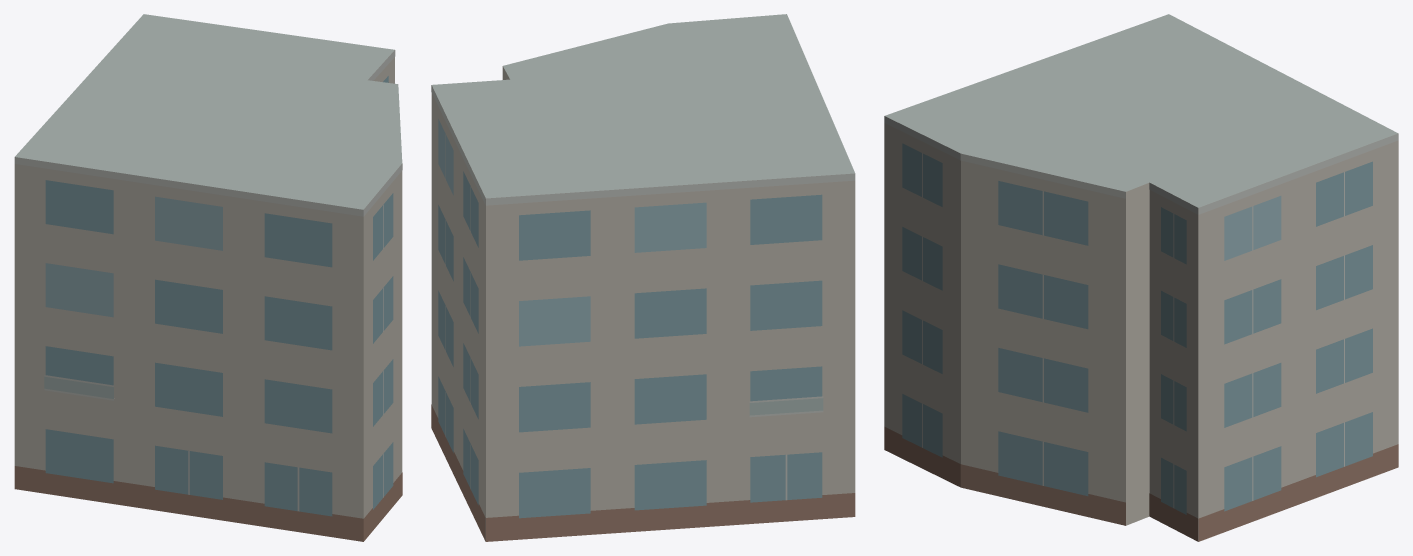
The model's file is survey-upis-32770719.glb.
3 views of the same model, side by side, from view 1: azimuth 30°, elevation 25°; view 2: azimuth 150°, elevation 25°; view 3: azimuth 270°, elevation 25° (orthographic). The views are drawn at different scales.
Parts seen in each view (by area): view 1: survey-upis-32770719.tmp; view 2: survey-upis-32770719.tmp; view 3: survey-upis-32770719.tmp.
Part boxes in pixels (x1=…): survey-upis-32770719.tmp: x1=14, y1=14, x2=402, y2=541; survey-upis-32770719.tmp: x1=431, y1=14, x2=855, y2=541; survey-upis-32770719.tmp: x1=884, y1=14, x2=1398, y2=541.
Size of the model in its own units: 14.53 by 11.66 by 16.27.
